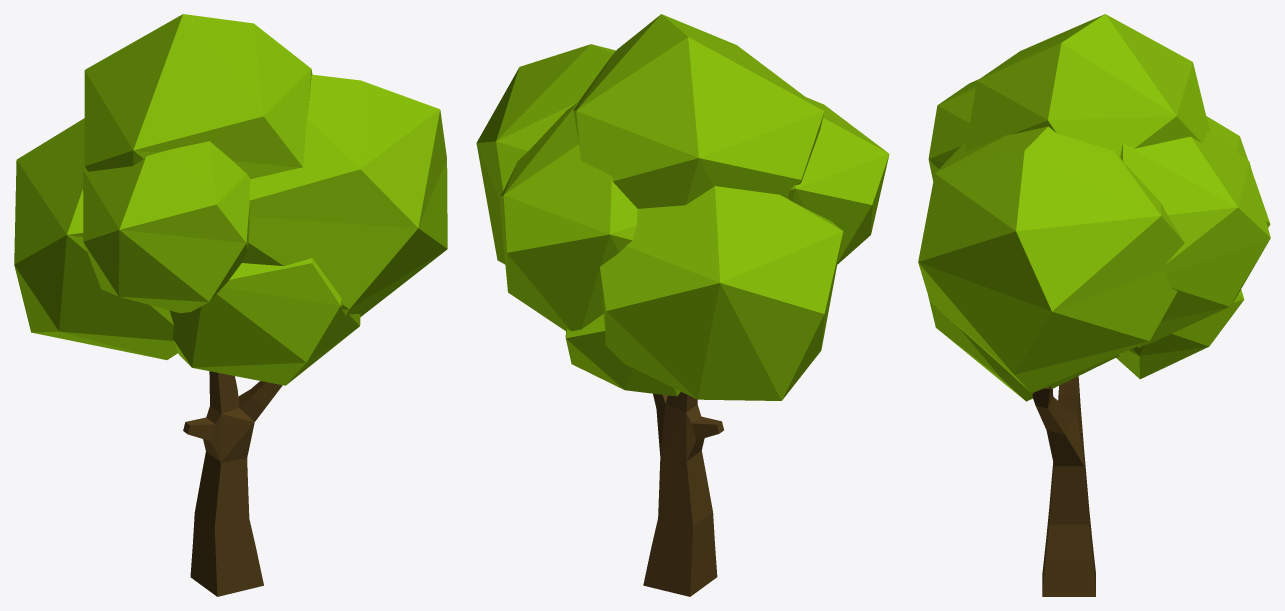
File: Tree_Oak.fbx
The picture shows the model from 3 angles, left to right: view 1: azimuth 30°, elevation 25°; view 2: azimuth 150°, elevation 25°; view 3: azimuth 270°, elevation 25°; orthographic projection.
Visible parts, largest first — view 1: Tree_Oak; view 2: Tree_Oak; view 3: Tree_Oak.
Boxes of the visible parts, box(x1,y1,x2,y2) form: Tree_Oak: box(14, 14, 447, 596); Tree_Oak: box(476, 14, 889, 596); Tree_Oak: box(918, 14, 1270, 596).
Bounding box in the file's own units: 417 × 574 × 328.
